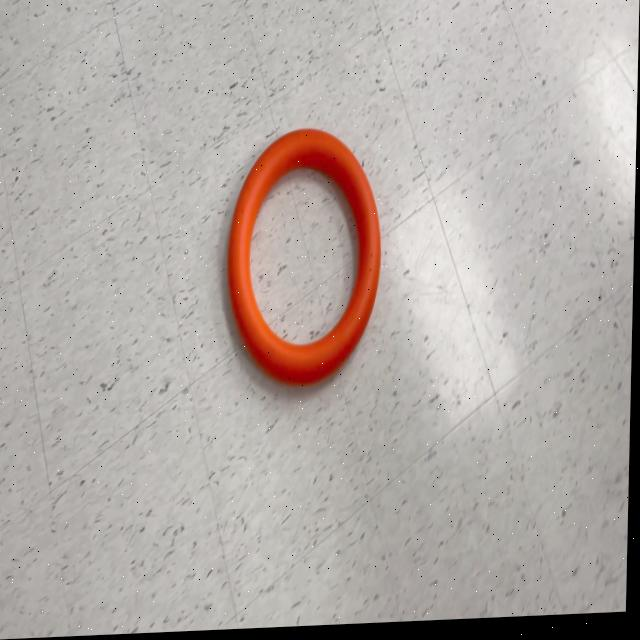note: (225, 127, 385, 396)
